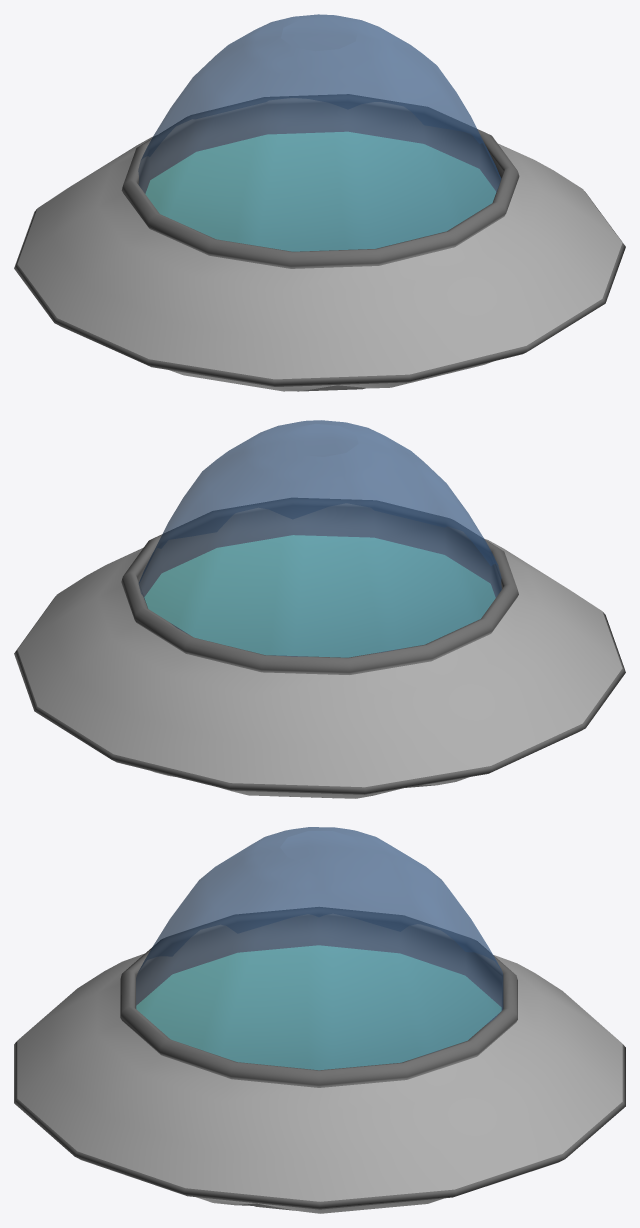
Rendered from UFO.fbx.
3 views of the same model, one above another, from view 1: azimuth 30°, elevation 25°; view 2: azimuth 150°, elevation 25°; view 3: azimuth 270°, elevation 25° (orthographic). The views are drawn at different scales.
Parts seen in each view (by area): view 1: UFO; view 2: UFO; view 3: UFO.
Boxes of the visible parts, left/top/right/bottom form: UFO: left=14, top=14, right=625, bottom=391; UFO: left=14, top=420, right=625, bottom=798; UFO: left=14, top=827, right=625, bottom=1213.
Bounding box in the file's own units: 3.46 × 1.85 × 3.38.
